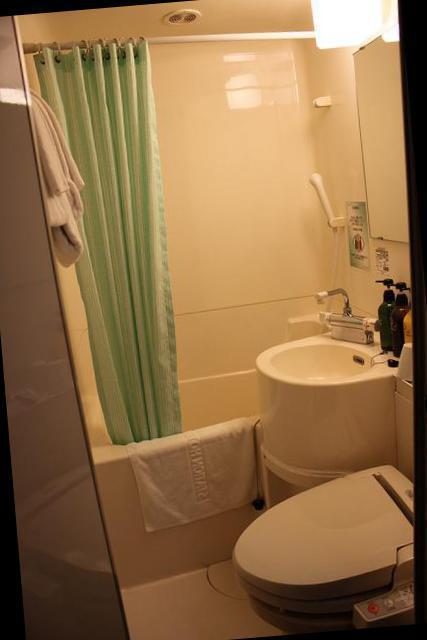Lavamanos: (244, 275, 427, 602)
Sanitario: (219, 340, 427, 631)
